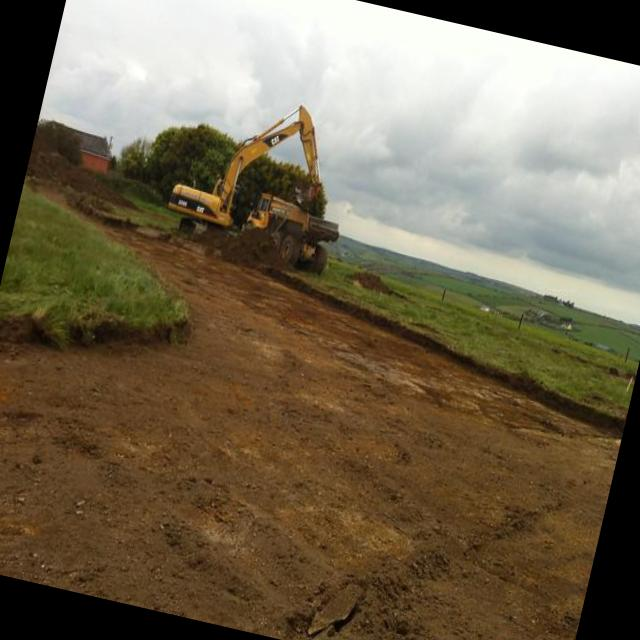Excavadora: (160, 79, 366, 278)
